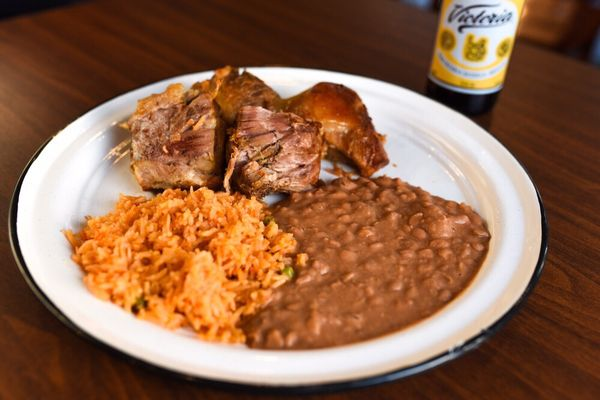burger: (425, 0, 524, 115)
curry: (2, 1, 579, 392)
